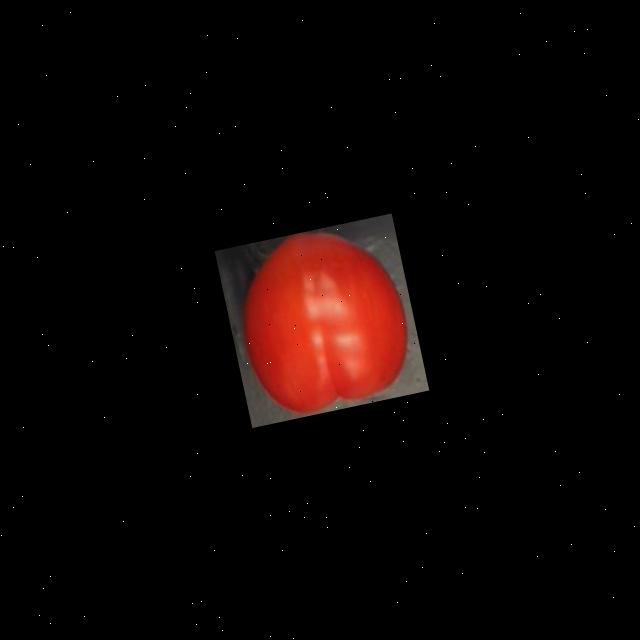tomato: (219, 214, 422, 426)
